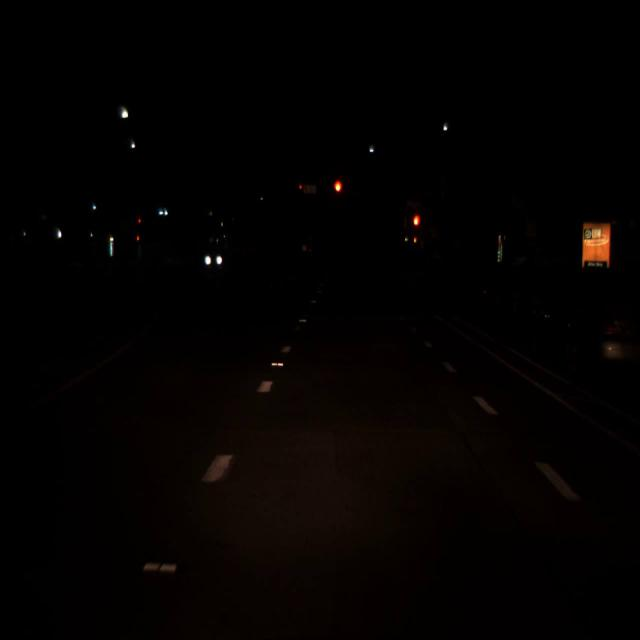stop: (333, 179, 343, 203), (412, 215, 420, 236)
stop traffic light: (333, 179, 343, 203), (412, 215, 420, 236)
